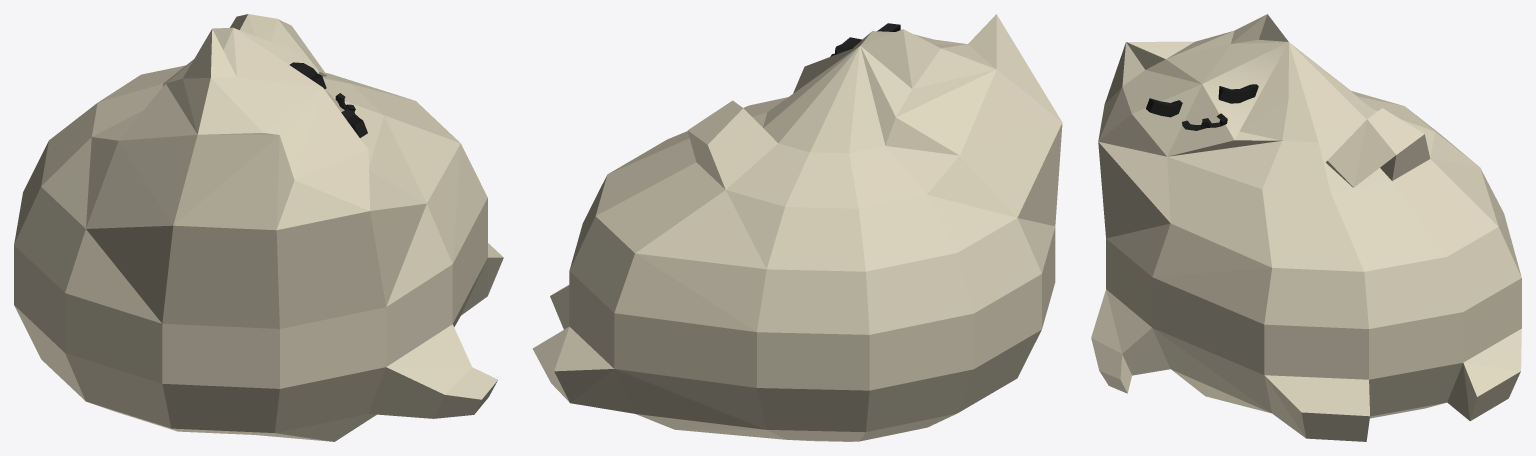
The model's file is Tubbs.fbx.
3 renders of one model, left to right at view 1: azimuth 30°, elevation 25°; view 2: azimuth 150°, elevation 25°; view 3: azimuth 270°, elevation 25°, orthographic. The views are drawn at different scales.
Visible parts, largest first — view 1: group697877844; view 2: group697877844; view 3: group697877844, group1129870449, group994108810.
Part boxes in pixels (x1,y1,x2,y2): group697877844: (14,14,503,441); group697877844: (532,14,1062,441); group697877844: (1091,14,1521,441); group1129870449: (1218,84,1258,103); group994108810: (1146,98,1182,117).
Bounding box in the file's own units: 369 × 311 × 349.
